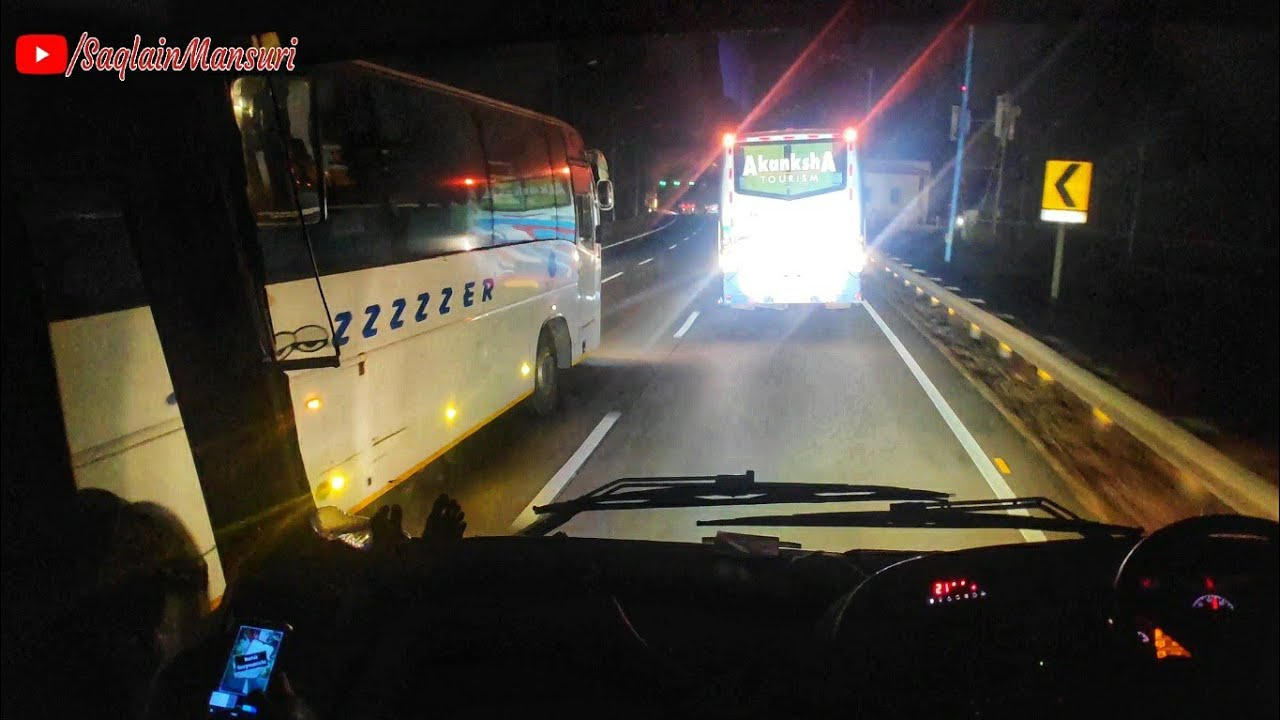bus: (337, 58, 617, 427), (709, 125, 873, 313)
